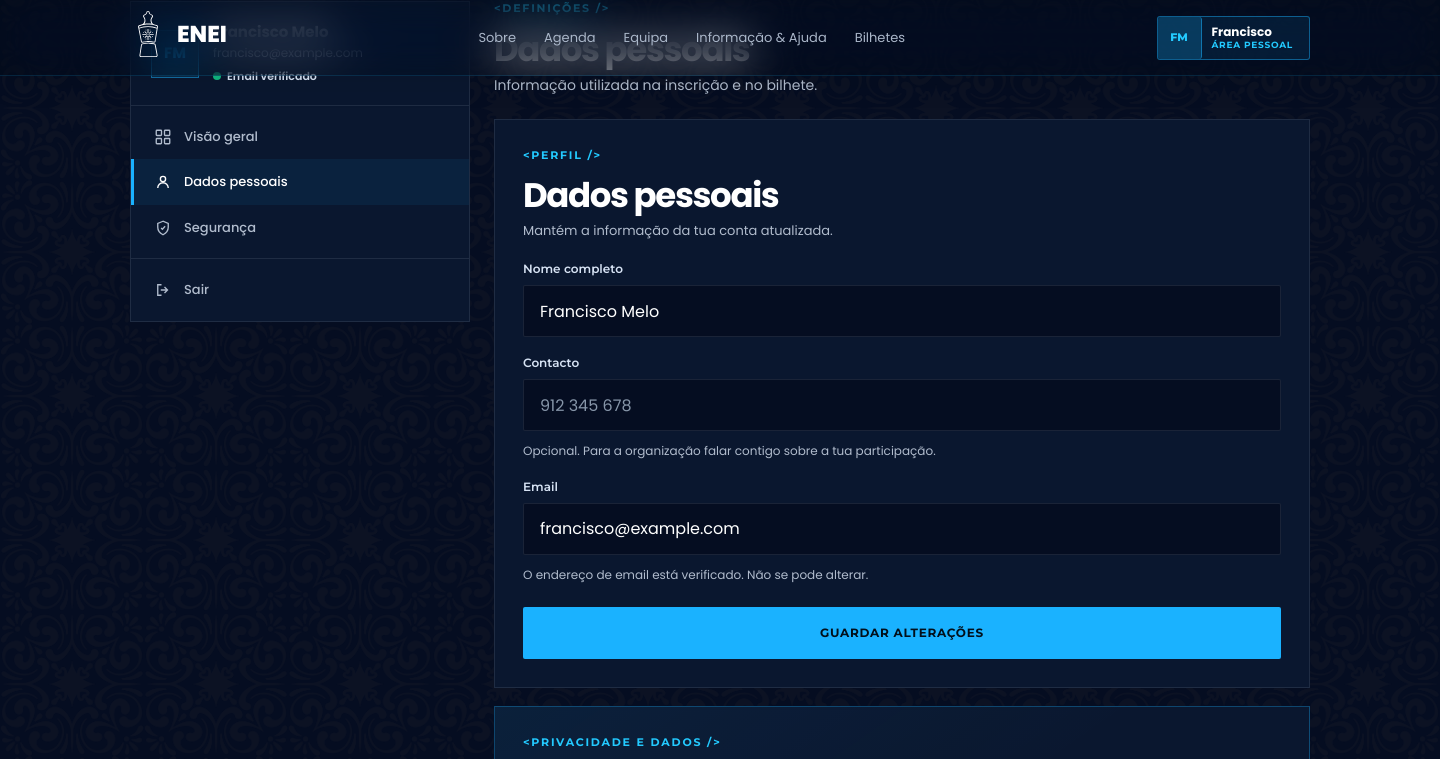
Test: Dados pessoais: contacto › apagar o número guarda «sem contacto» (null)
(page scrolled)
Click the button "Guardar alterações".
click(902, 633)  # box [523,607,1281,659]
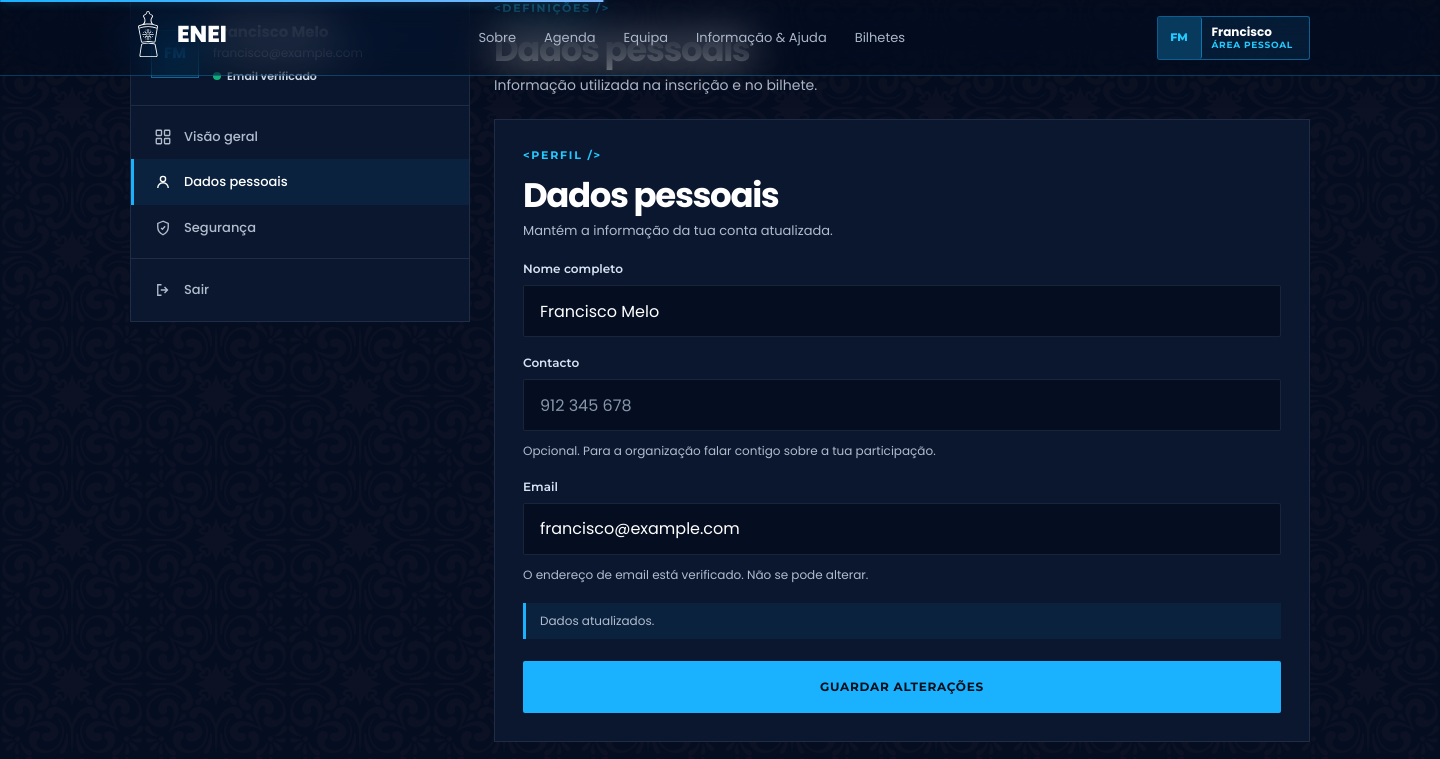
Check: the text "Dados atualizados." is shown, box [523,603,1281,639]
